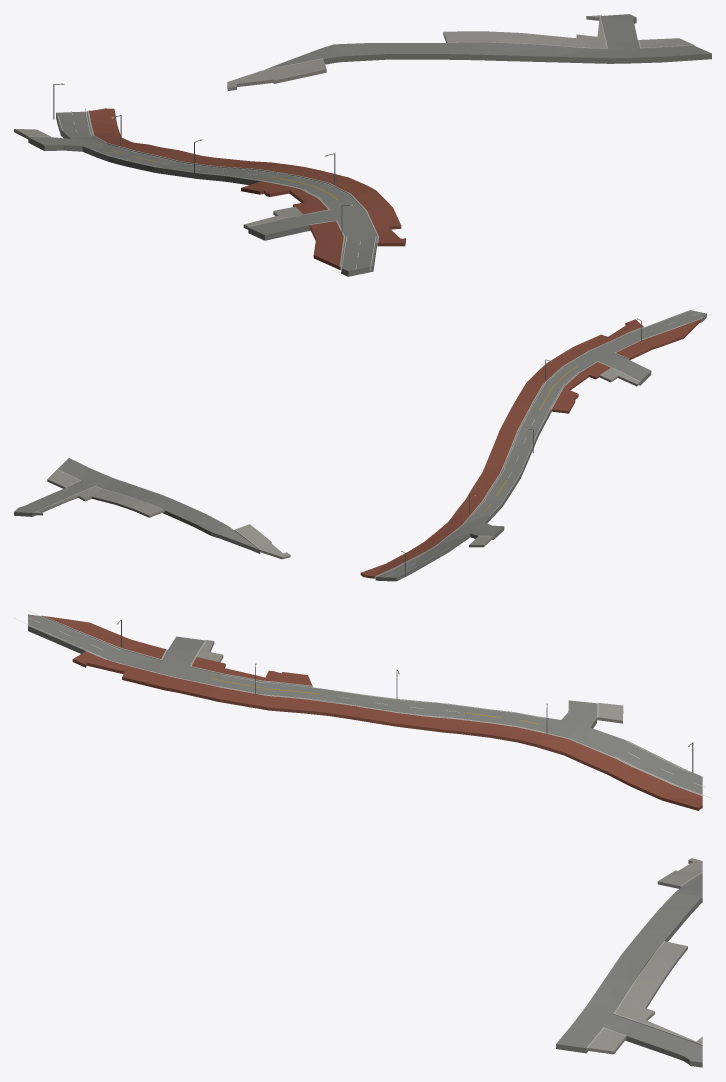
3 views of the same model, one above another, from view 1: azimuth 30°, elevation 25°; view 2: azimuth 150°, elevation 25°; view 3: azimuth 270°, elevation 25° (orthographic). The views are drawn at different scales.
Size of the model in its own units: 148 by 43.18 by 151.
